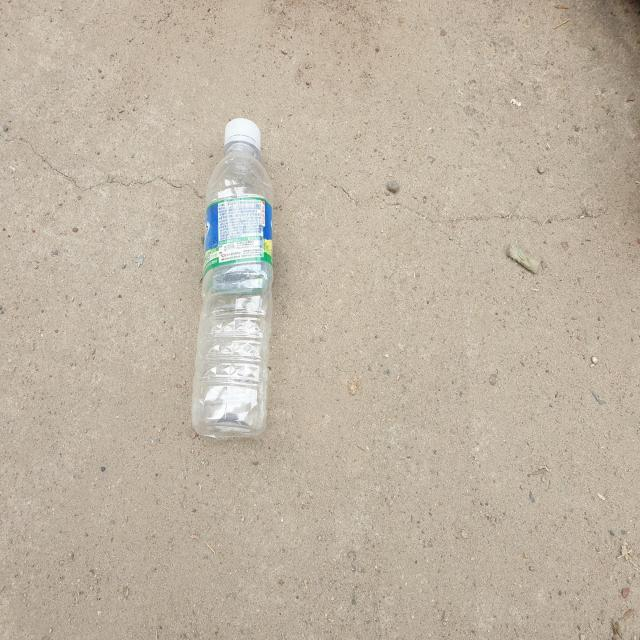plastic: (192, 117, 273, 438)
